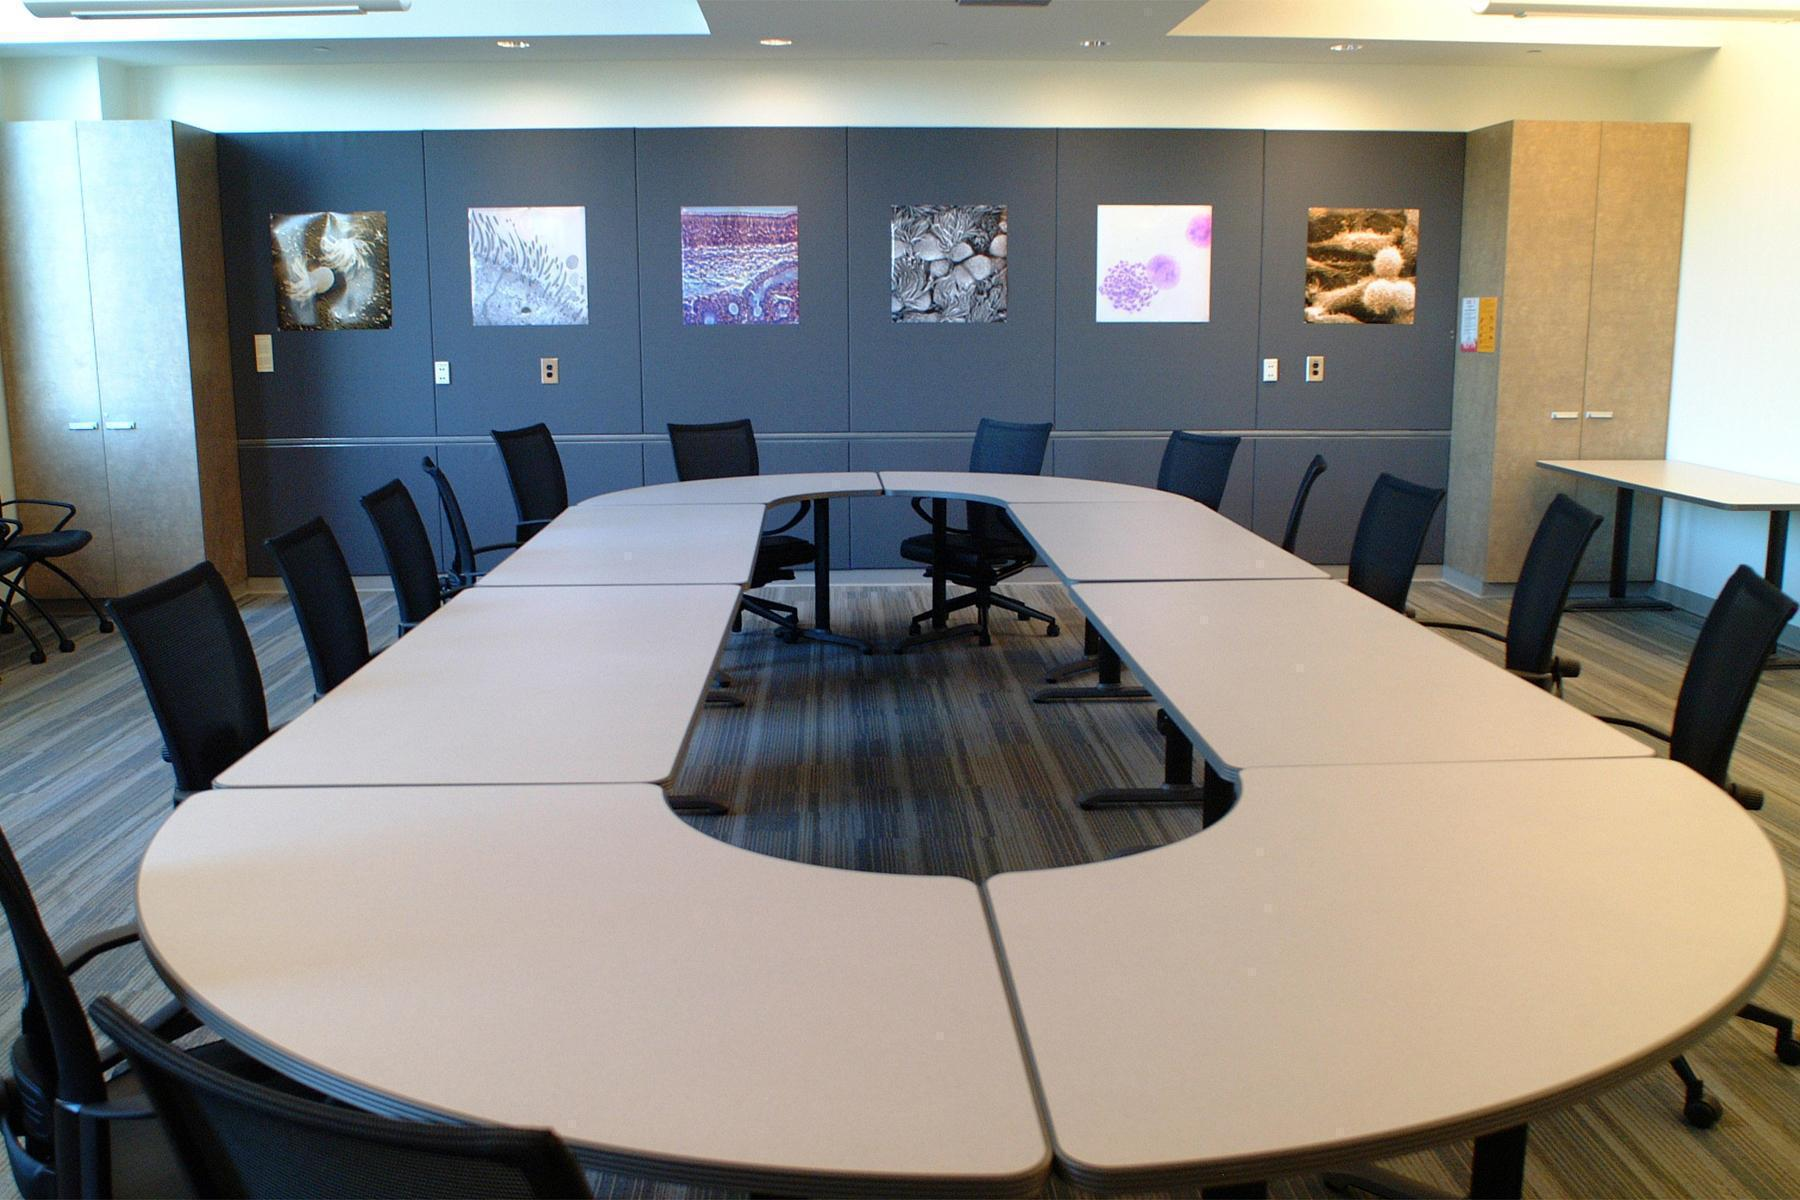Armario: (1472, 125, 1667, 583)
